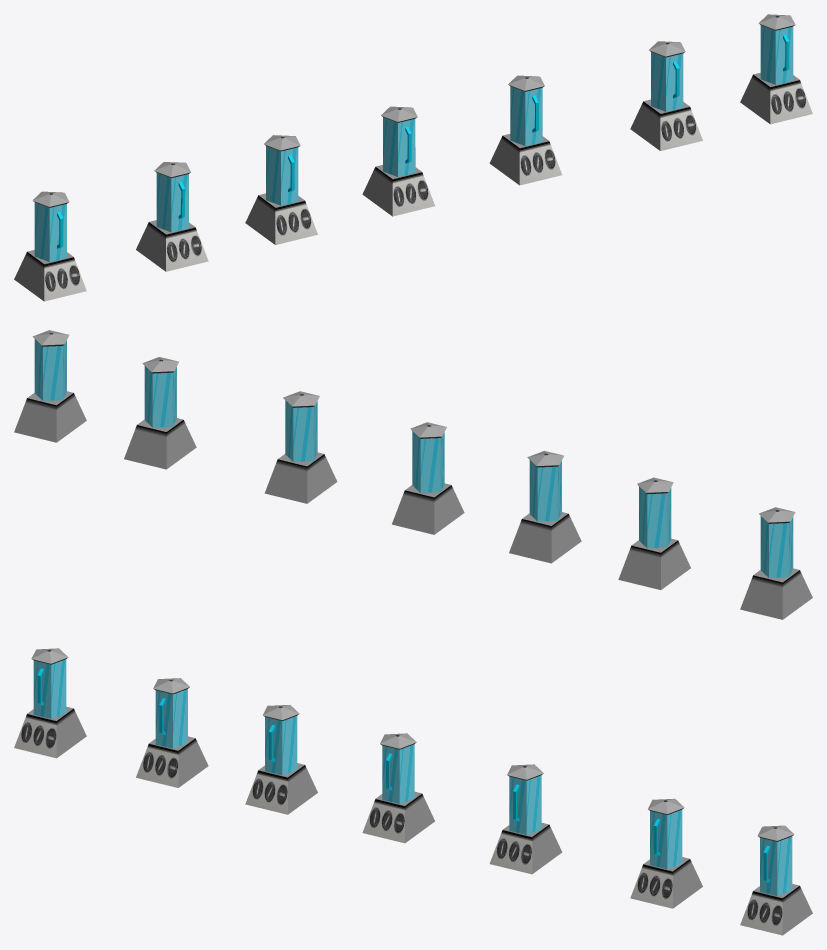
Rendered from Bundle_Blender.fbx.
3 views of the same model, one above another, from view 1: azimuth 30°, elevation 25°; view 2: azimuth 150°, elevation 25°; view 3: azimuth 330°, elevation 25° (orthographic).
Visible parts, largest first — view 1: Bundle_Blender_1; view 2: Bundle_Blender_1; view 3: Bundle_Blender_1.
Boxes of the visible parts, <box> form: Bundle_Blender_1: <box>14,14,812,301</box>; Bundle_Blender_1: <box>14,330,812,619</box>; Bundle_Blender_1: <box>14,648,812,935</box>.
Size of the model in its own units: 407 by 46.83 by 27.68.
